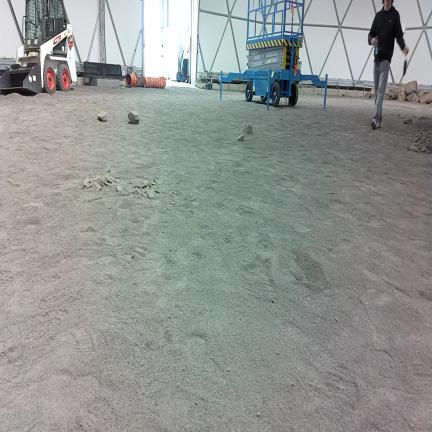Rock: (420, 91, 432, 104), (128, 111, 140, 124), (405, 81, 417, 94), (407, 93, 418, 102), (416, 89, 425, 99), (416, 141, 426, 150), (82, 177, 90, 188), (390, 89, 398, 100), (92, 181, 101, 190), (398, 91, 406, 101), (98, 112, 106, 121), (244, 125, 252, 133), (147, 190, 154, 198), (409, 145, 418, 151), (370, 88, 375, 98), (116, 185, 123, 192), (106, 177, 113, 184), (404, 118, 412, 124), (364, 92, 371, 98), (384, 93, 390, 100), (413, 137, 419, 143), (238, 135, 244, 141), (141, 191, 147, 197), (256, 412, 260, 418), (425, 149, 431, 153), (152, 180, 156, 185), (227, 368, 230, 373), (410, 423, 413, 428), (195, 400, 198, 405), (107, 167, 110, 172), (132, 253, 135, 258), (276, 351, 279, 355), (272, 299, 274, 303), (187, 379, 189, 383), (141, 362, 143, 366)
